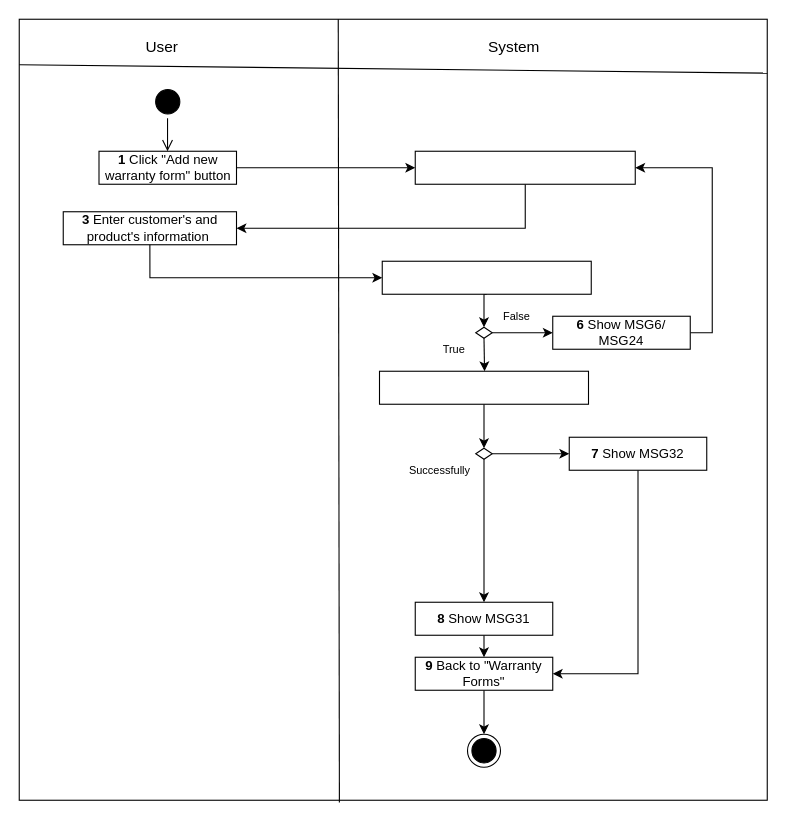
The diagram is 788 pixels wide and 824 high, and some of its shapes have lost their labels. Each missing label, with the centre of its shape:
2 Show screen "Warranty Form Info" with empty form: (x=524, y=167)
4 isValidForm(newWarranty): (x=486, y=277)
5 AddNewWarranty(newWarranty): (x=483, y=387)
